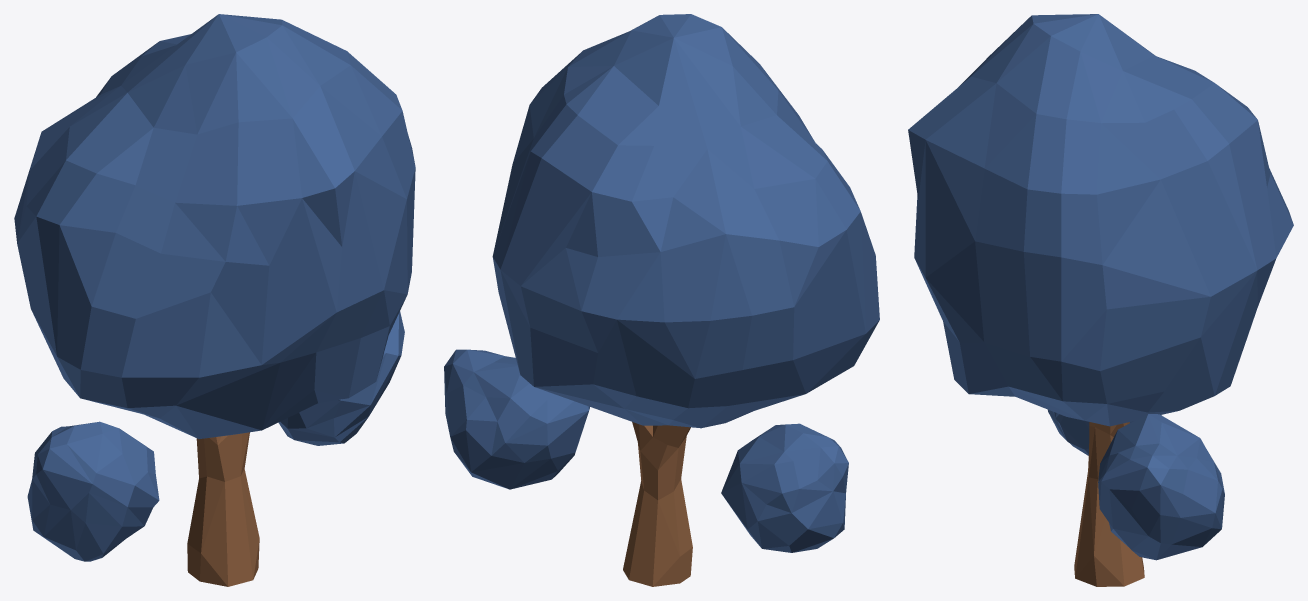
Rendered from tree-winter-complete-3-007.glb.
The picture shows the model from 3 angles, left to right: view 1: azimuth 30°, elevation 25°; view 2: azimuth 150°, elevation 25°; view 3: azimuth 270°, elevation 25°; orthographic projection. The views are drawn at different scales.
Visible parts, largest first — view 1: TREE 3.005_199, TREE 3.004_200; view 2: TREE 3.005_199, TREE 3.004_200; view 3: TREE 3.005_199, TREE 3.004_200.
Part boxes in pixels (x1=…): TREE 3.005_199: x1=14, y1=14, x2=415, y2=561; TREE 3.004_200: x1=187, y1=432, x2=259, y2=586; TREE 3.005_199: x1=444, y1=14, x2=879, y2=552; TREE 3.004_200: x1=623, y1=422, x2=692, y2=586; TREE 3.005_199: x1=908, y1=14, x2=1293, y2=560; TREE 3.004_200: x1=1074, y1=422, x2=1144, y2=586.
Bounding box in the file's own units: 1.04 × 1.42 × 0.8969.
